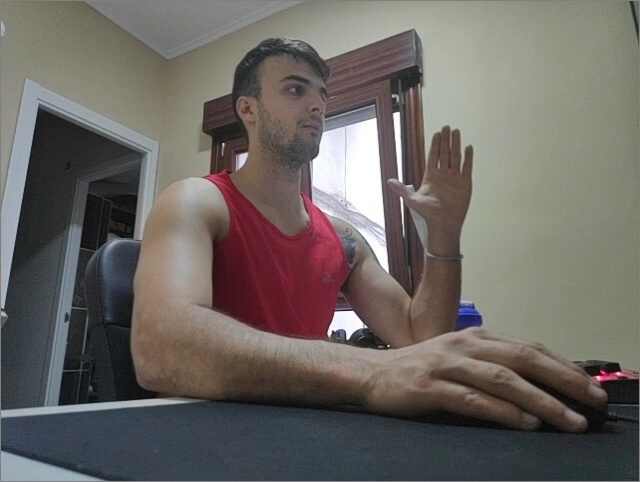Palm: (385, 123, 475, 219)
